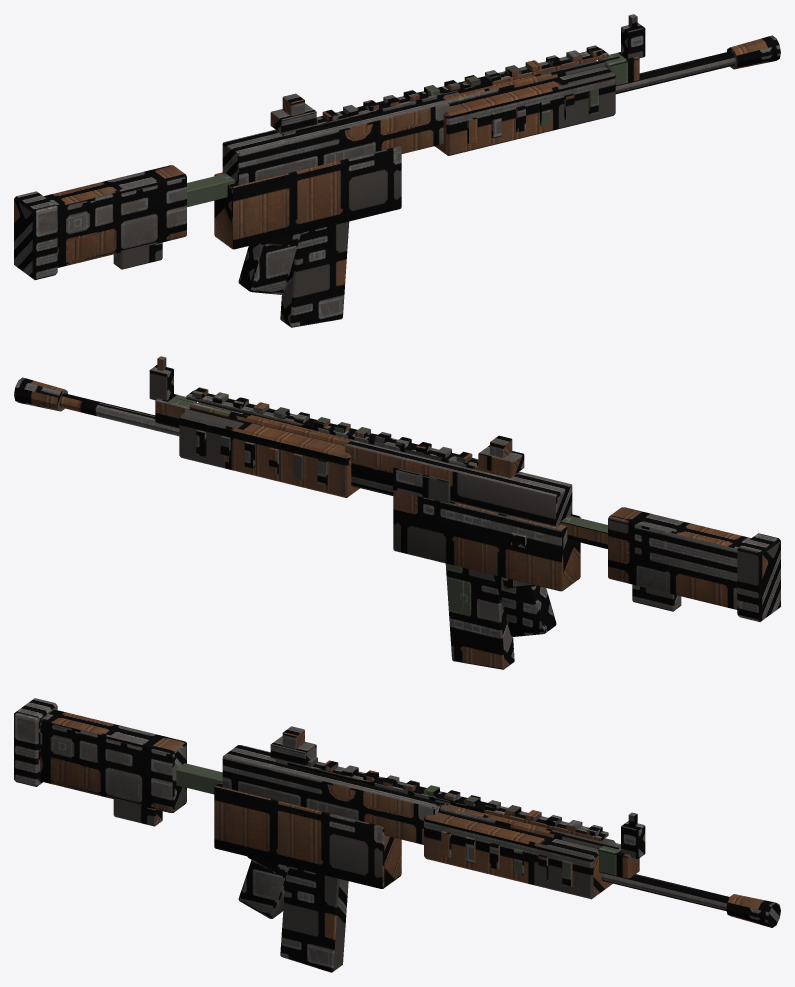
The model's file is weapon_assault_rifle.glb.
The picture shows the model from 3 angles, top to bottom: view 1: azimuth 30°, elevation 25°; view 2: azimuth 150°, elevation 25°; view 3: azimuth 330°, elevation 25°; orthographic projection.
Parts seen in each view (by area): view 1: Body, DefaultStock, DefaultMag, IronSights, DefaultBarrel, DefaultMuzzle; view 2: Body, DefaultStock, DefaultMag, IronSights, DefaultBarrel, DefaultMuzzle; view 3: Body, DefaultStock, DefaultMag, IronSights, DefaultBarrel, DefaultMuzzle.
Part boxes in pixels (x1=…): Body: x1=187, y1=45, x2=639, y2=294; DefaultStock: x1=14, y1=165, x2=186, y2=279; DefaultMag: x1=280, y1=221, x2=349, y2=327; IronSights: x1=270, y1=14, x2=645, y2=133; DefaultBarrel: x1=615, y1=51, x2=735, y2=94; DefaultMuzzle: x1=727, y1=35, x2=780, y2=69; Body: x1=155, y1=387, x2=607, y2=636; DefaultStock: x1=608, y1=507, x2=780, y2=621; DefaultMag: x1=445, y1=563, x2=514, y2=669; IronSights: x1=149, y1=356, x2=524, y2=475; DefaultBarrel: x1=59, y1=393, x2=179, y2=436; DefaultMuzzle: x1=14, y1=377, x2=67, y2=411; Body: x1=176, y1=745, x2=639, y2=918; DefaultStock: x1=14, y1=698, x2=186, y2=826; DefaultMag: x1=280, y1=867, x2=348, y2=972; IronSights: x1=270, y1=726, x2=645, y2=859; DefaultBarrel: x1=601, y1=873, x2=729, y2=911; DefaultMuzzle: x1=726, y1=894, x2=780, y2=927.
Size of the model in its own units: 1.06 by 0.3083 by 0.068.
Materials: 1 (1 with a texture image).
